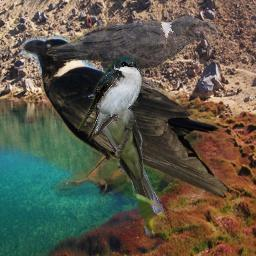Crow: (20, 33, 230, 199), (45, 14, 219, 94)
Cuckoo: (88, 90, 165, 236)
Swallow: (78, 53, 144, 141)
